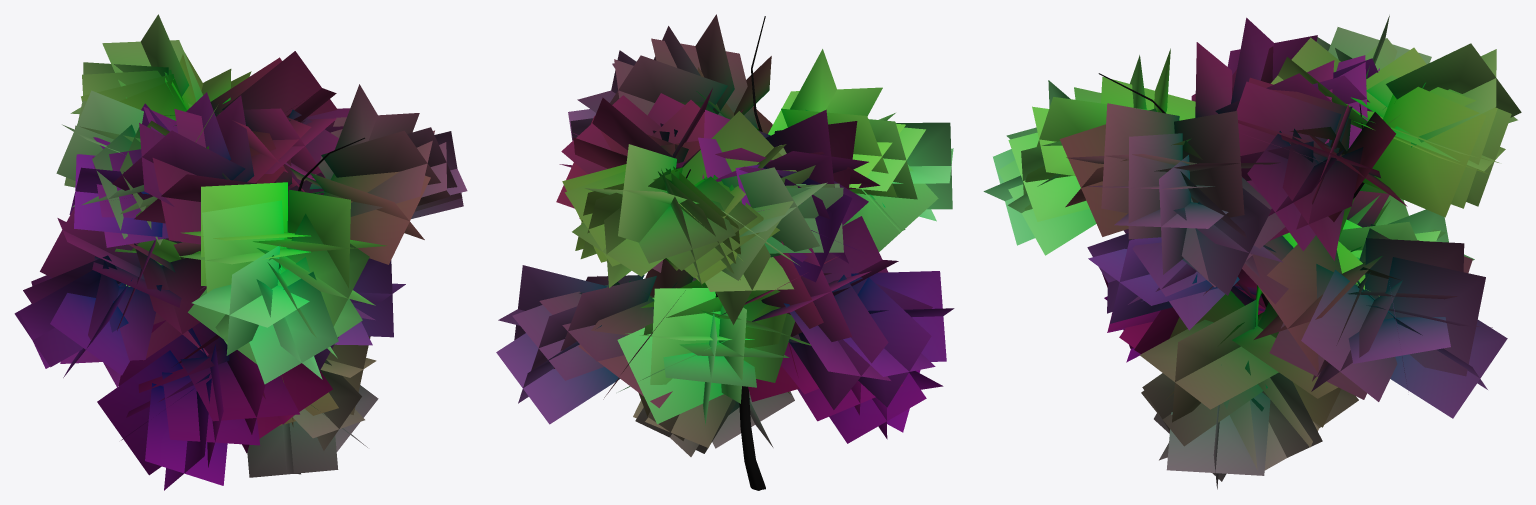
The model's file is M_P14_Tree_7.fbx.
The picture shows the model from 3 angles, left to right: view 1: azimuth 30°, elevation 25°; view 2: azimuth 150°, elevation 25°; view 3: azimuth 270°, elevation 25°; orthographic projection. The views are drawn at different scales.
Visible parts, largest first — view 1: Tree_7; view 2: Tree_7; view 3: Tree_7.
Part boxes in pixels (x1,y1,x2,y2): Tree_7: (14,14,467,490); Tree_7: (496,14,954,490); Tree_7: (983,15,1521,489).
Bounding box in the file's own units: 441 × 414 × 478.
